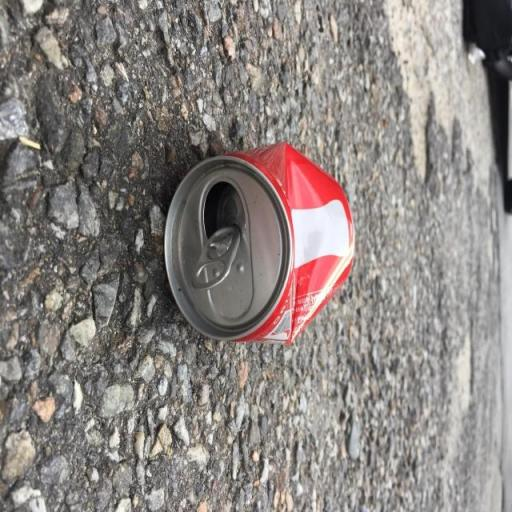metal: (150, 122, 390, 382)
